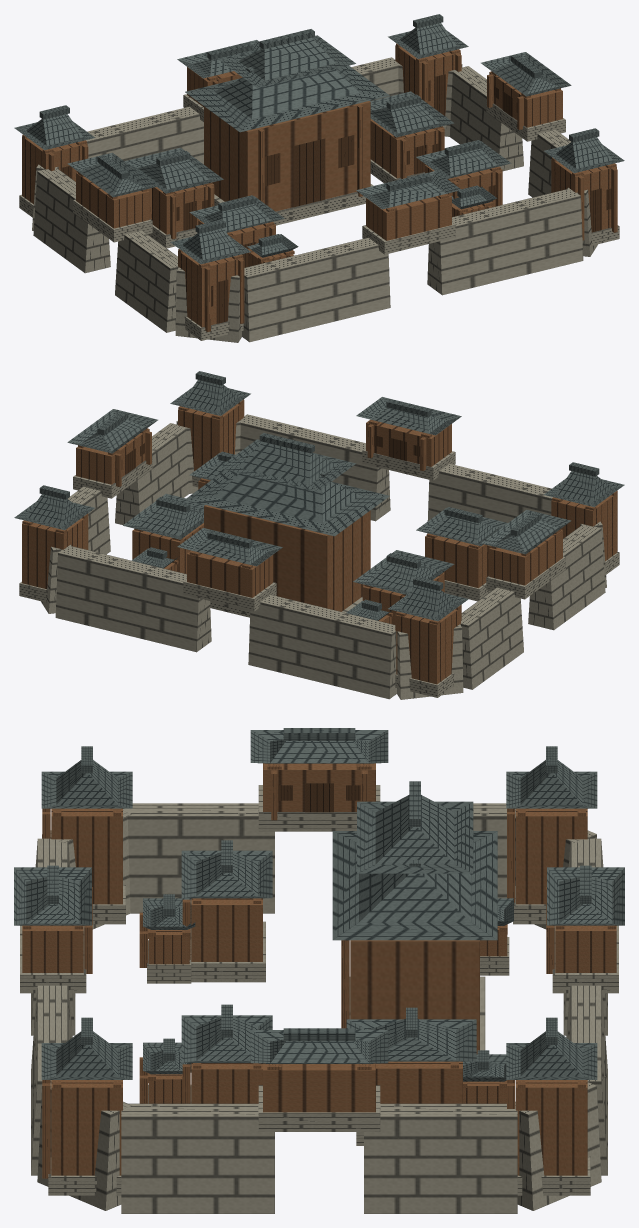
Rendered from city0-lod1.glb.
3 views of the same model, one above another, from view 1: azimuth 30°, elevation 25°; view 2: azimuth 150°, elevation 25°; view 3: azimuth 270°, elevation 25° (orthographic). The views are drawn at different scales.
Bounding box in the file's own units: 2.31 × 0.821 × 1.79.
1 material, 1 textured.
